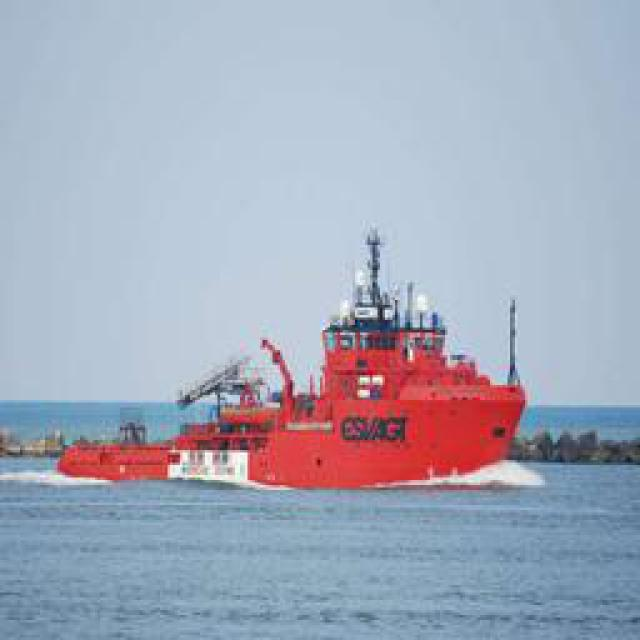Ship: (158, 222, 526, 490)
